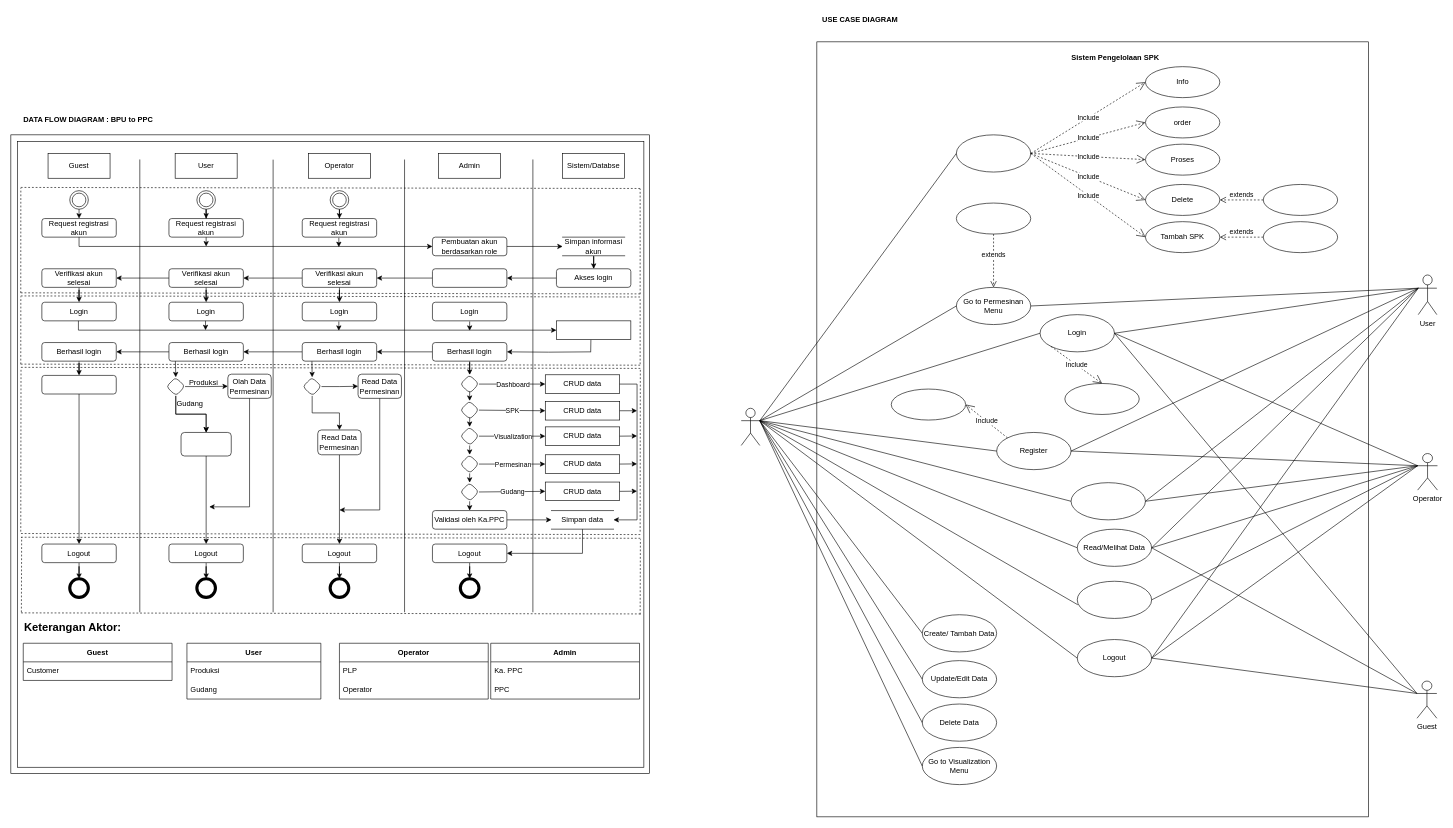
This 1453x828 diagram has some shape labels left out. The shapes that lost their labels are listed below. From the top down, each one's box as (x1, y1, x2, y2) in pixels, then its label:
(956, 134, 1031, 172): Go to SPK Menu
(956, 202, 1031, 234): status info
(1263, 184, 1338, 215): Verifikasi delete
(1263, 221, 1338, 253): Validasi Ka.PPC
(432, 268, 507, 287): Cek data akun
(556, 320, 631, 339): Simpan data login
(41, 375, 116, 394): Read Data Semua Menu
(891, 388, 966, 420): Input data register
(1064, 383, 1139, 414): Input data login
(180, 432, 231, 456): Olah Data Gudang
(741, 408, 760, 445): PPC/Admin
(1070, 482, 1145, 520): Go to Gudang Menu
(1077, 581, 1152, 618): Melihat Dashboard SPK
